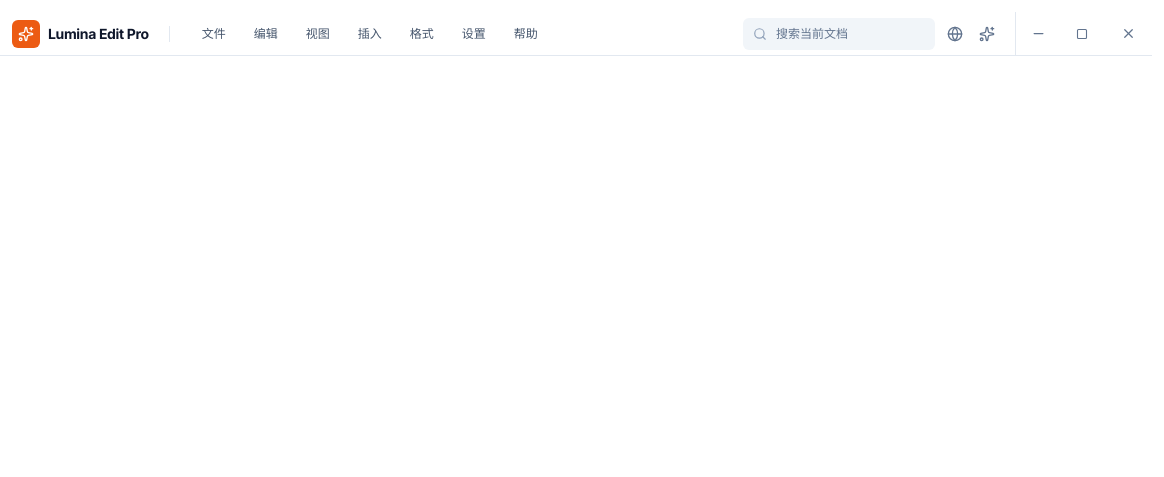
Test: Header menu command model › keeps the clip source in the titlebar icon only and moves exports into a 导出 submenu
Click the button "文件" at coordinates (214, 34), box [190,20,238,48]
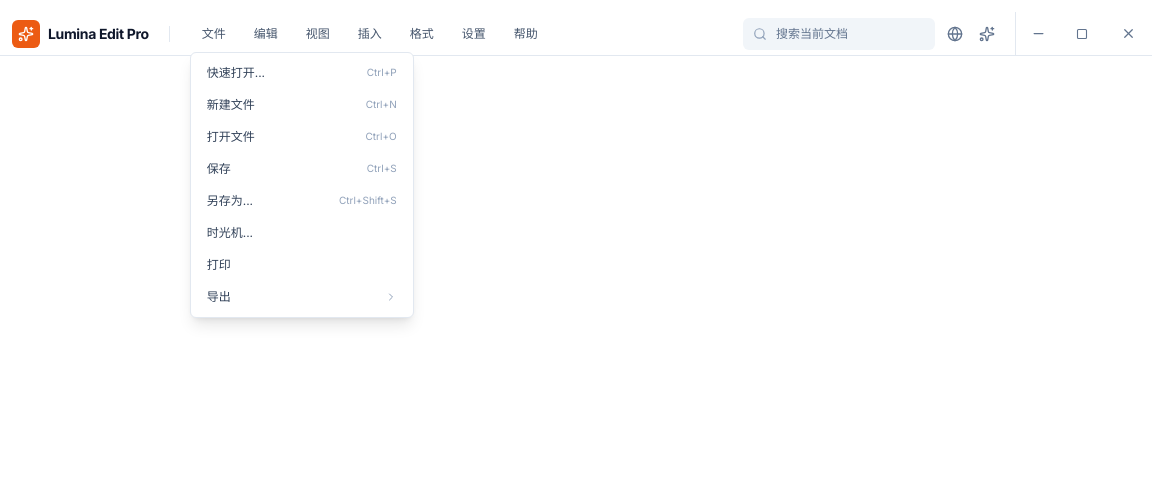
Expected: the button titled "知识来源与网页剪藏 (Ctrl+Shift+I)" is shown, [941,20,969,48]
Hover over the element showing "导出" at coordinates (302, 296), box [191,280,413,312]
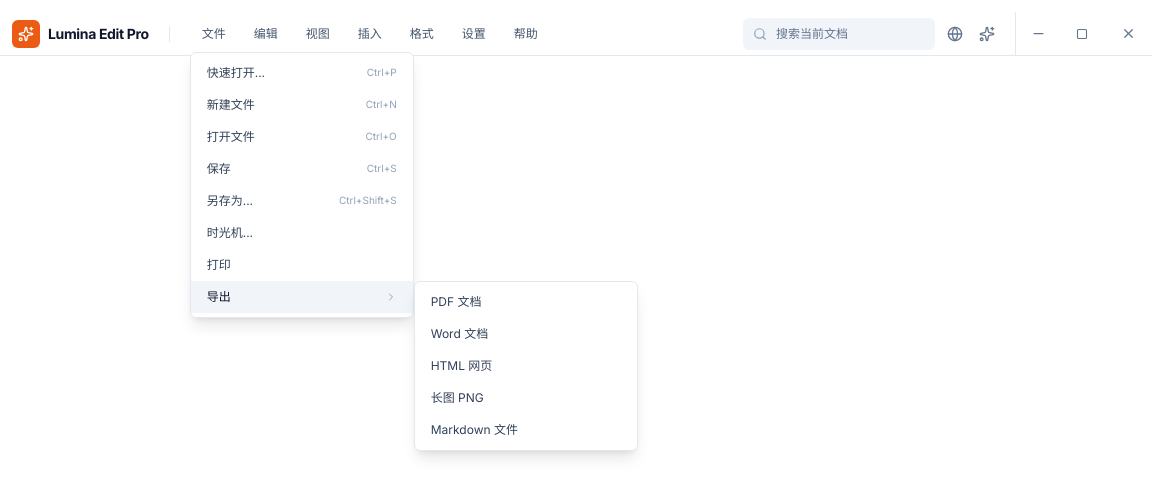
Now the menu items read "PDF 文档", "Word 文档", "HTML 网页", "长图 PNG", "Markdown 文件", in this order, box [415,286,637,318]; [415,318,637,350]; [415,350,637,382]; [415,382,637,414]; [415,414,637,446]
